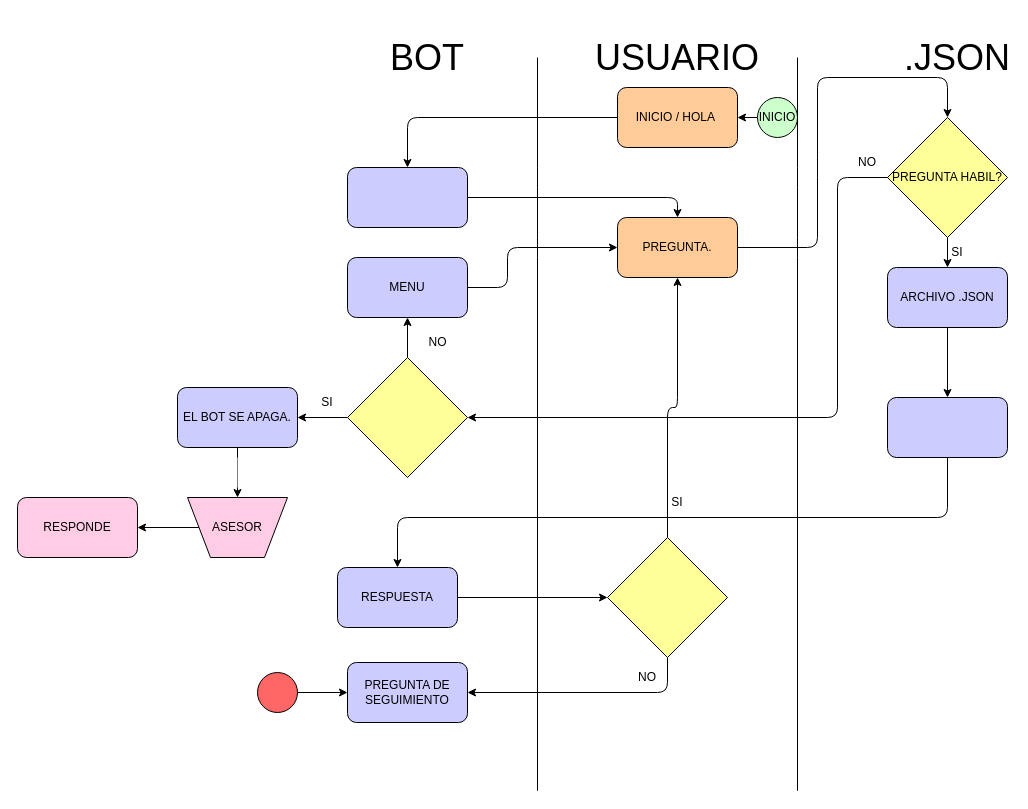
Image size: 1028x809. Some labels were removed from this diagram. The shapes that lost their labels are listed below. From the top down, each one's box as (x1, y1, x2, y2) in pixels, then its label:
(346, 166, 468, 228): MENSAJE DE BIENVENIDA O SALUDO
(346, 356, 468, 478): INTENTOS FALLIDOS >=2
(886, 396, 1008, 458): INTENCIóN ENCONTRADA.
(237, 457, 297, 487): ENTRA
(606, 536, 728, 658): RESPONDIO EL USUARIO?
(256, 672, 298, 712): FIN
